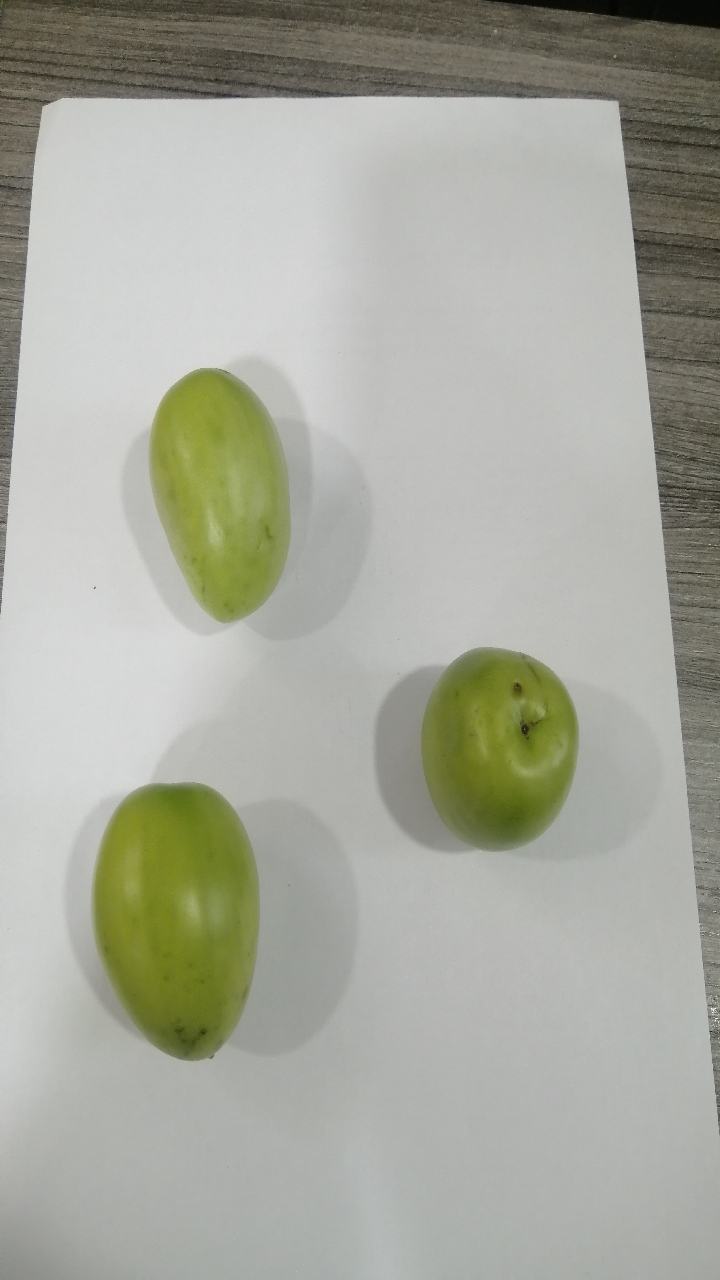tomateVerde: (61, 755, 264, 1082), (131, 337, 312, 657), (404, 625, 583, 863)
